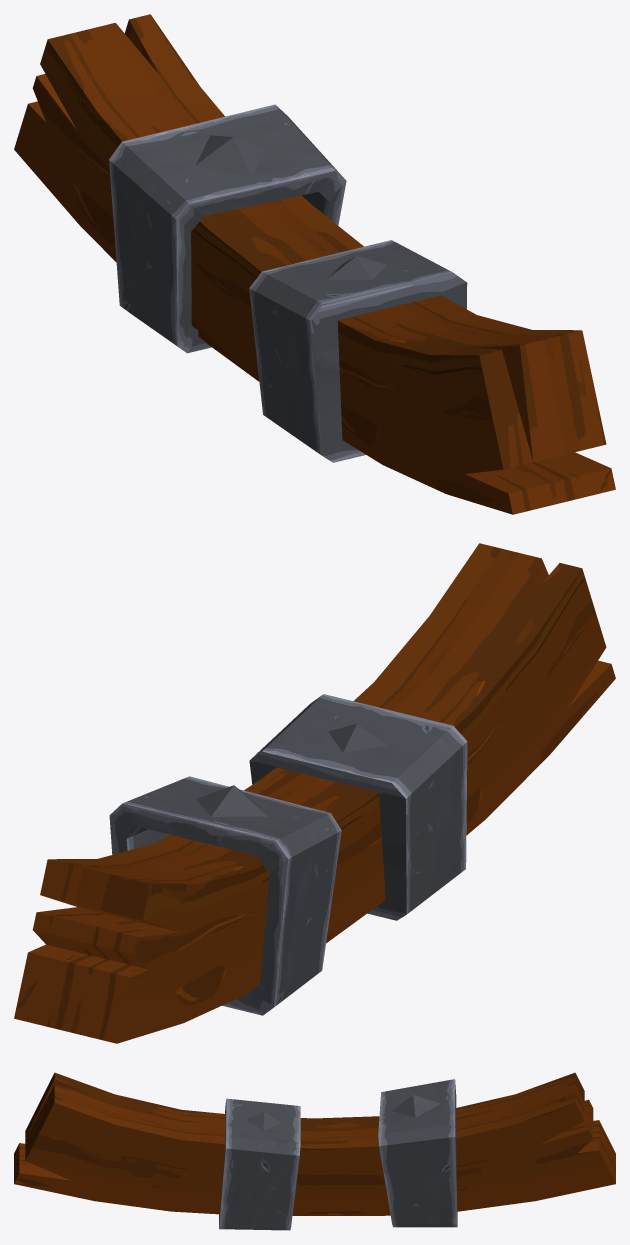
The model's file is SM_BLD_beam_big_v01_v2.fbx.
3 renders of one model, top to bottom at view 1: azimuth 30°, elevation 25°; view 2: azimuth 150°, elevation 25°; view 3: azimuth 270°, elevation 25°, orthographic. The views are drawn at different scales.
Visible parts, largest first — view 1: SM_BLD_beam_big_v01_v2; view 2: SM_BLD_beam_big_v01_v2; view 3: SM_BLD_beam_big_v01_v2.
Part boxes in pixels (x1,y1,x2,y2): SM_BLD_beam_big_v01_v2: [14, 14, 615, 514]; SM_BLD_beam_big_v01_v2: [14, 543, 615, 1043]; SM_BLD_beam_big_v01_v2: [14, 1072, 615, 1230].
Bounding box in the file's own units: 179 × 198 × 864.
